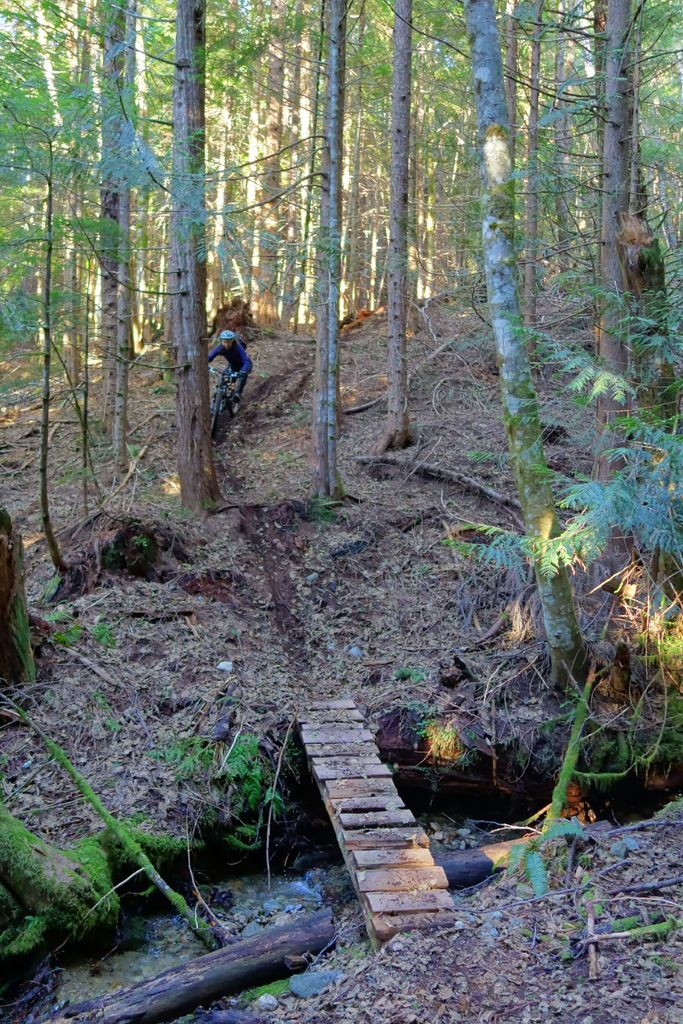Bicycle: (210, 368, 243, 437)
